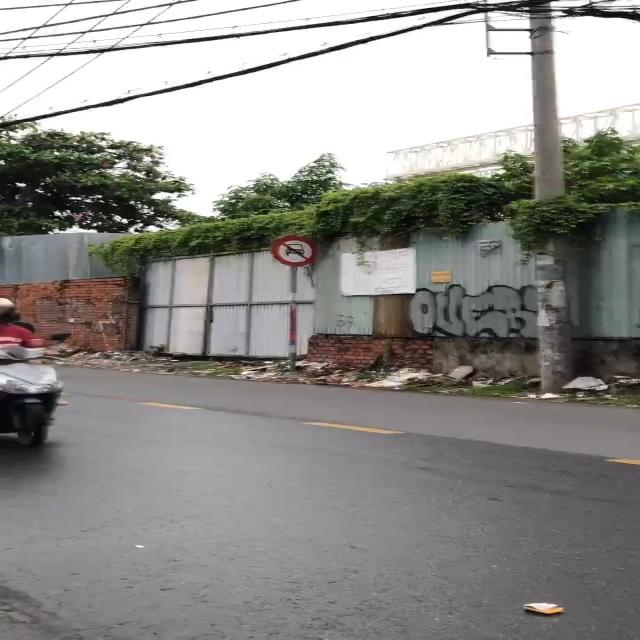Bien bao cam xe oto: (266, 233, 326, 269)
